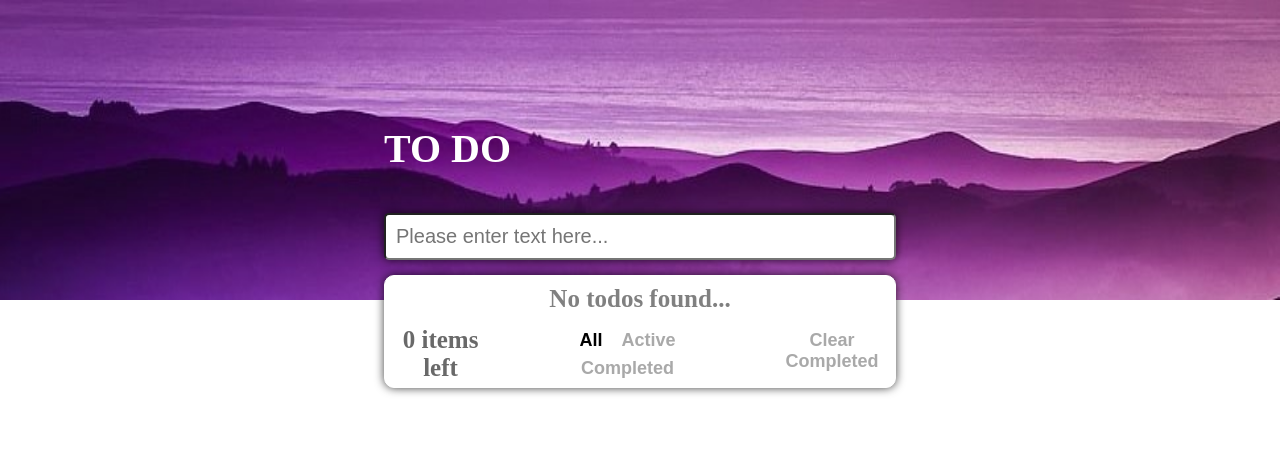
Test: to-do app e2e › with a checked task › can filter for uncompleted tasks
The width and height of the screenshot is (1280, 475).
Type "Todo item completed" into the field with test id "input-new-todo".
click(640, 237); type("Todo item completed")  # box [384,213,896,260]
Then press Enter
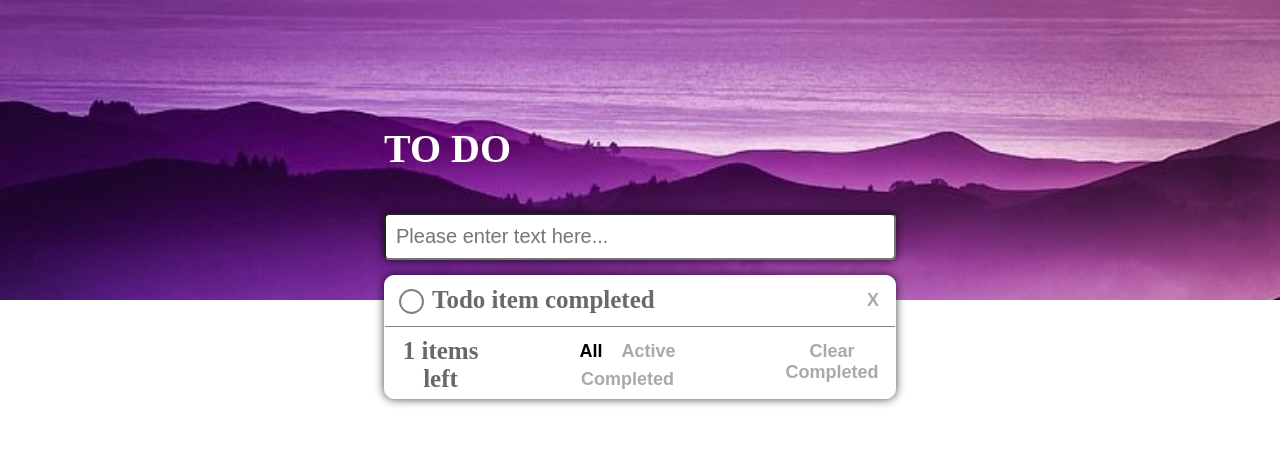
Type "Todo item active" into the field with test id "input-new-todo".
click(640, 237); type("Todo item active")  # box [384,213,896,260]
Then press Enter
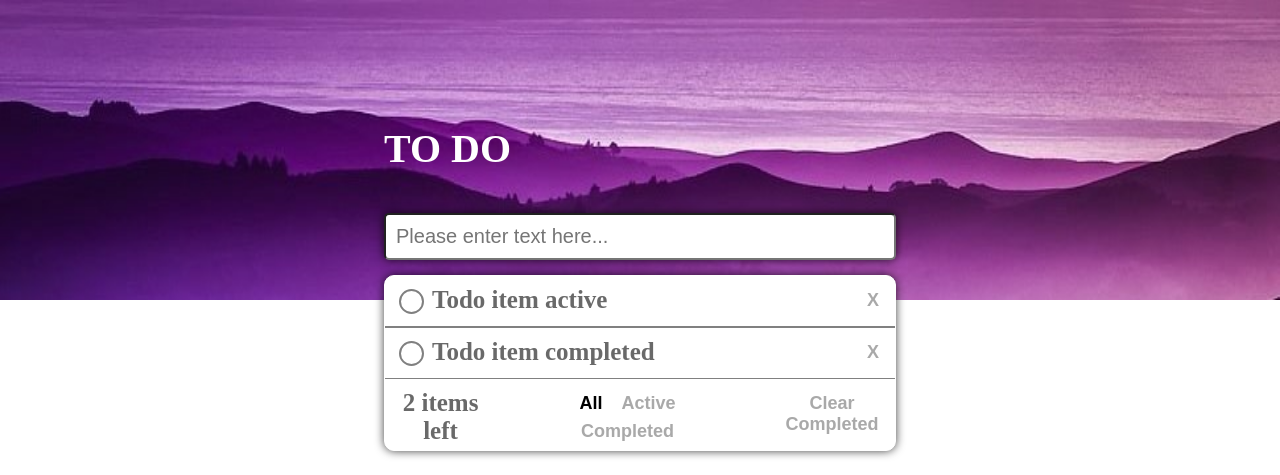
Check the 2nd checkbox.
click(412, 354)  # box [399,341,424,366]
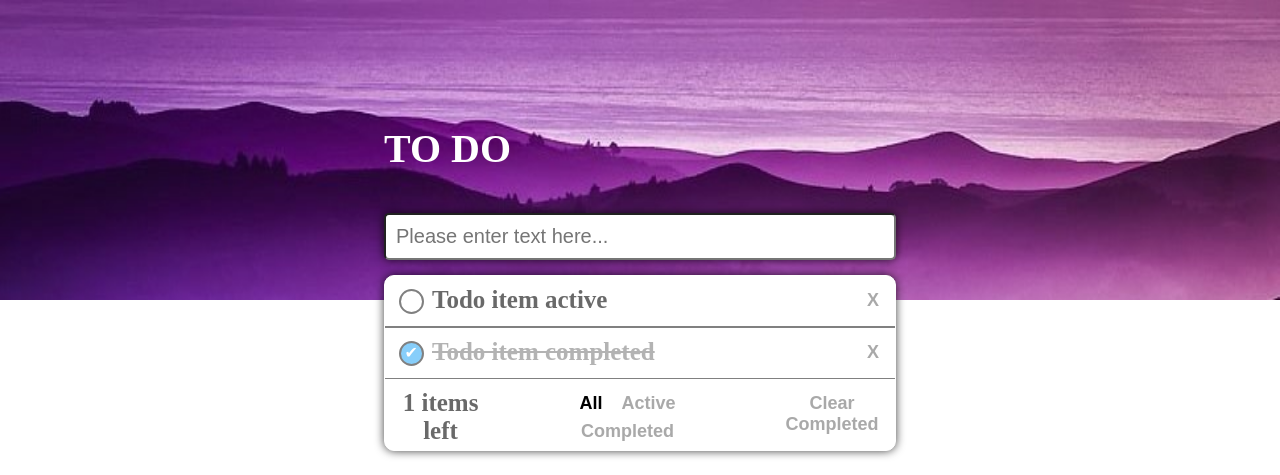
Click the button "Active".
click(649, 405)  # box [616,392,682,417]
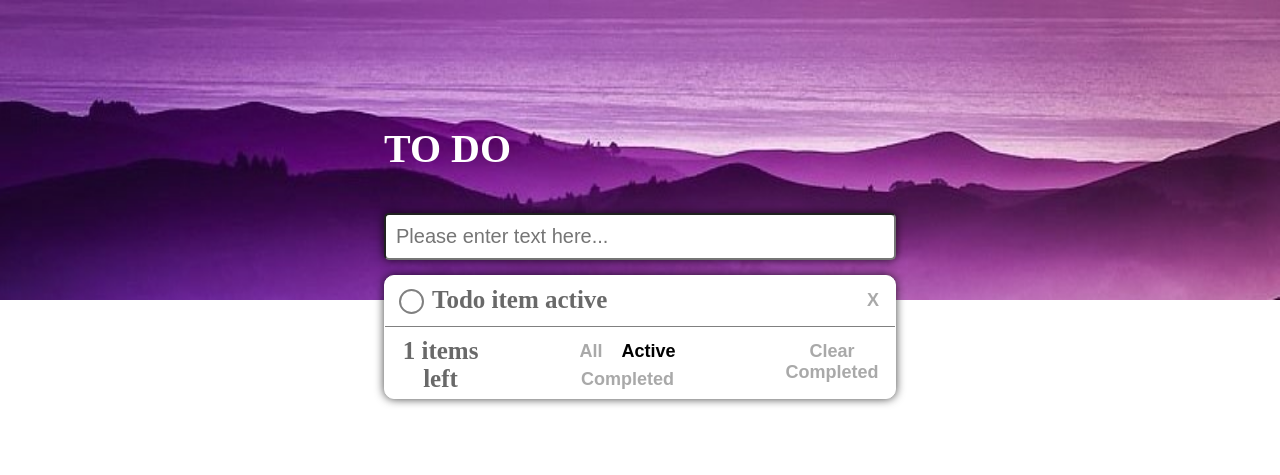
Expected: the text "Todo item active" is shown, [432,286,608,314]
Expected: the button "Todo item completed" is gone
